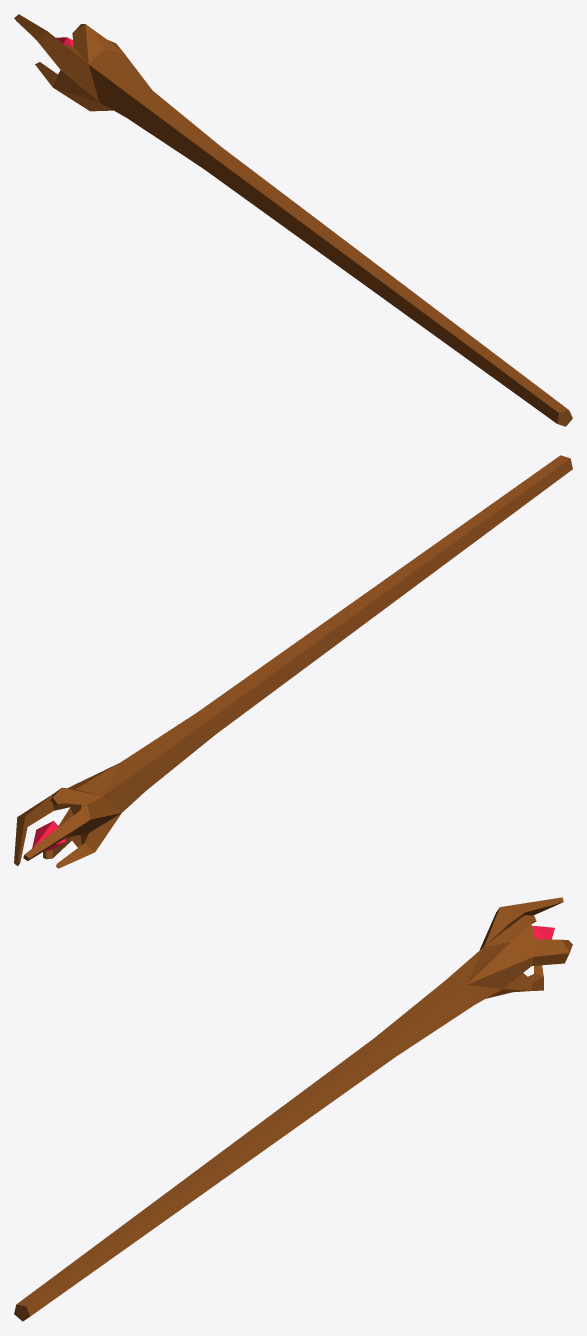
File: Staff_Wizard.glb
3 views of the same model, one above another, from view 1: azimuth 30°, elevation 25°; view 2: azimuth 150°, elevation 25°; view 3: azimuth 330°, elevation 25° (orthographic).
Visible parts, largest first — view 1: Wizard Staff; view 2: Wizard Staff; view 3: Wizard Staff.
Part boxes in pixels (x1,y1,x2,y2): Wizard Staff: (14,14,572,426); Wizard Staff: (14,455,572,868); Wizard Staff: (14,897,572,1321).
Size of the model in its own units: 0.2148 by 0.1936 by 2.64.
Materials: 1 (1 with a texture image).
